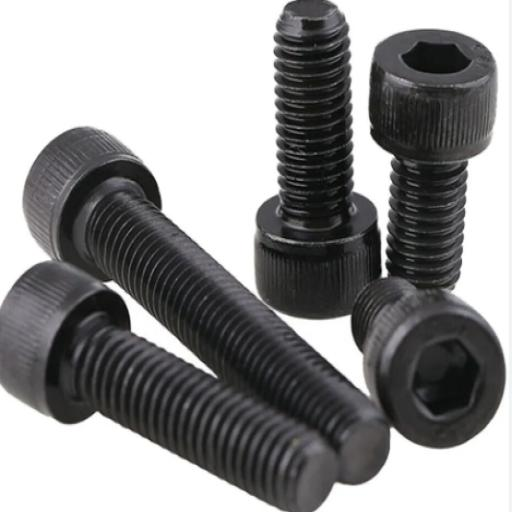Hex-Allen: (366, 288, 508, 450)
